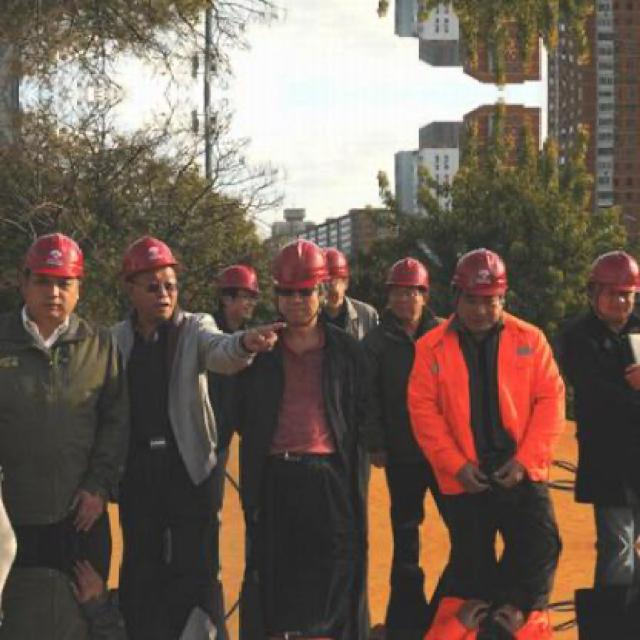con casco: (437, 232, 524, 372), (8, 222, 101, 328), (258, 230, 339, 351), (113, 232, 201, 336), (577, 214, 640, 341), (364, 249, 430, 351), (183, 334, 186, 336)
